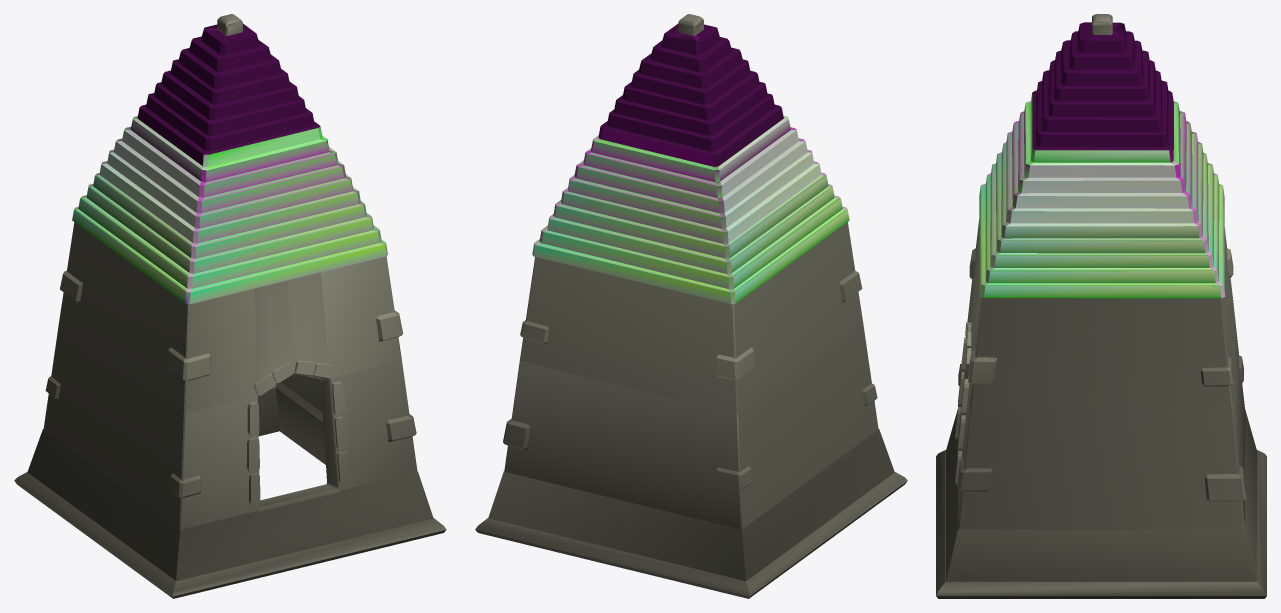
File: tomb small.fbx
3 views of the same model, side by side, from view 1: azimuth 30°, elevation 25°; view 2: azimuth 150°, elevation 25°; view 3: azimuth 270°, elevation 25° (orthographic). The views are drawn at different scales.
Parts seen in each view (by area): view 1: carcass, roof, base, window; view 2: carcass, roof, base; view 3: carcass, roof, base.
Boxes of the visible parts, x1,y1,x2,y2 form: carcass: (43, 14, 417, 529); roof: (72, 24, 387, 304); base: (14, 382, 446, 598); window: (256, 372, 340, 511); carcass: (503, 14, 878, 529); roof: (532, 24, 849, 304); base: (475, 429, 907, 598); carcass: (955, 14, 1246, 529); roof: (979, 22, 1225, 298); base: (936, 409, 1266, 598).
Bounding box in the file's own units: 639 × 1094 × 639.
